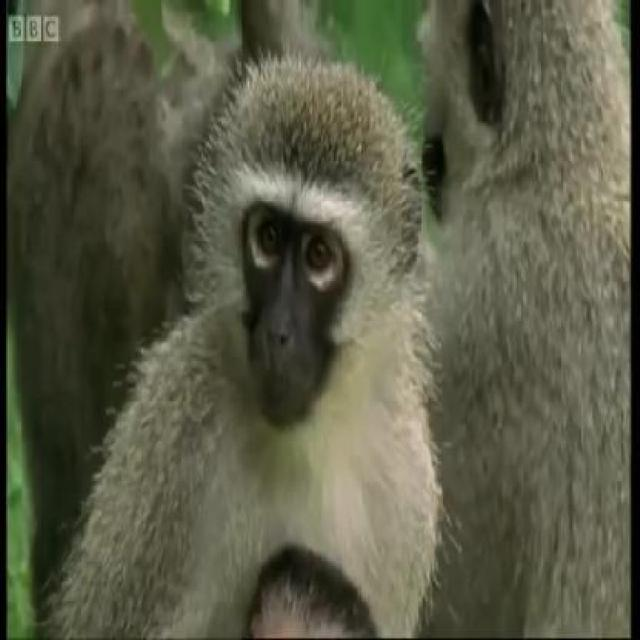Monkey: (113, 52, 433, 638), (424, 4, 627, 638)
